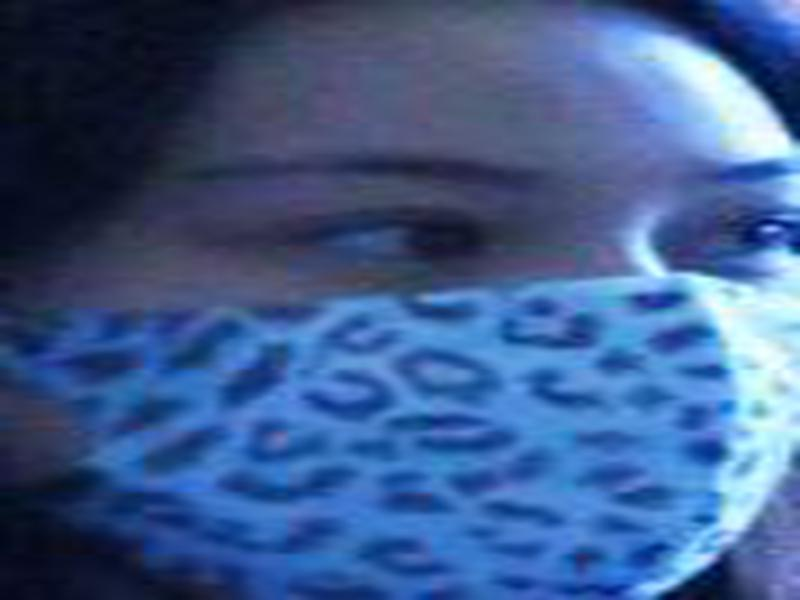with_mask: (4, 1, 795, 593)
